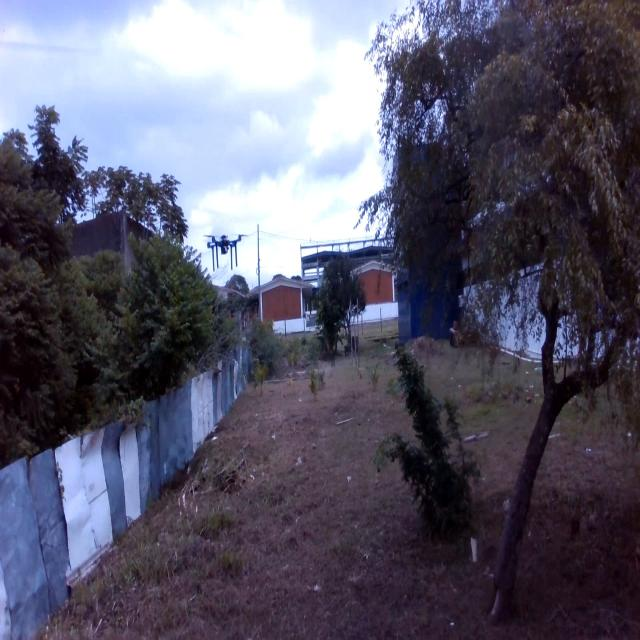-uav-: (197, 221, 255, 274)
